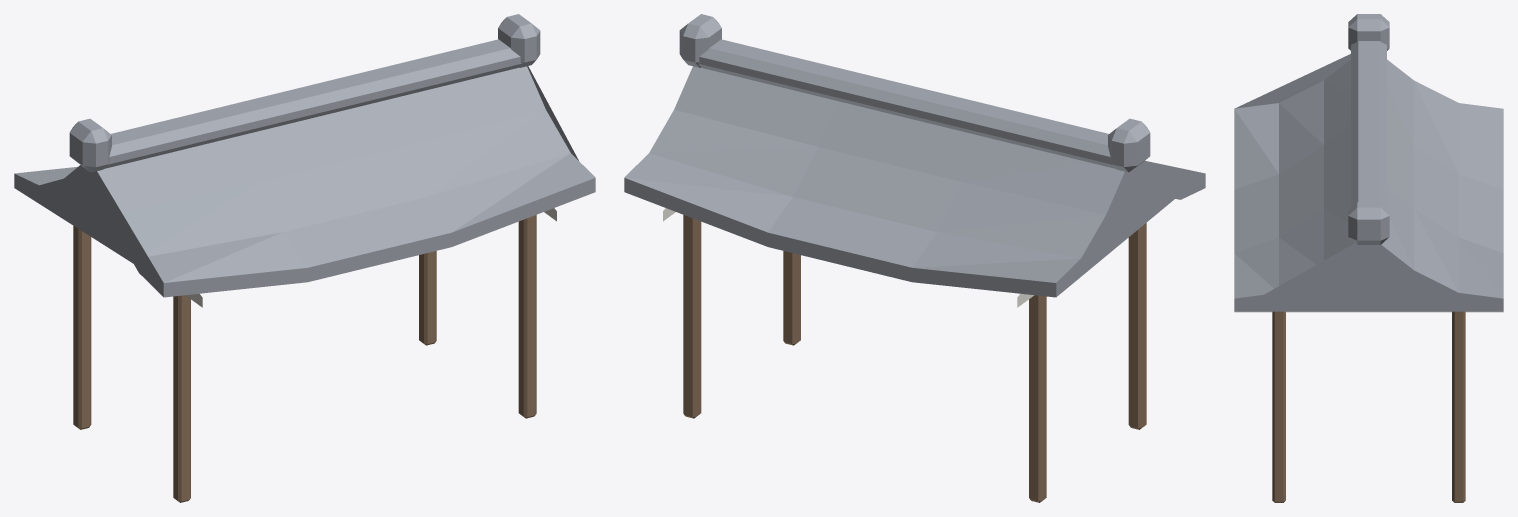
File: feudal-japan-castle-town-market-roof-bfccc992__26227.glb
3 renders of one model, left to right at view 1: azimuth 30°, elevation 25°; view 2: azimuth 150°, elevation 25°; view 3: azimuth 270°, elevation 25°, orthographic. The views are drawn at different scales.
Parts seen in each view (by area): view 1: market-roof; view 2: market-roof; view 3: market-roof.
Boxes of the visible parts, x1,y1,x2,y2 form: market-roof: (14,14,595,502); market-roof: (624,14,1205,502); market-roof: (1234,14,1503,502).
Size of the model in its own units: 5.3 by 3.86 by 3.
